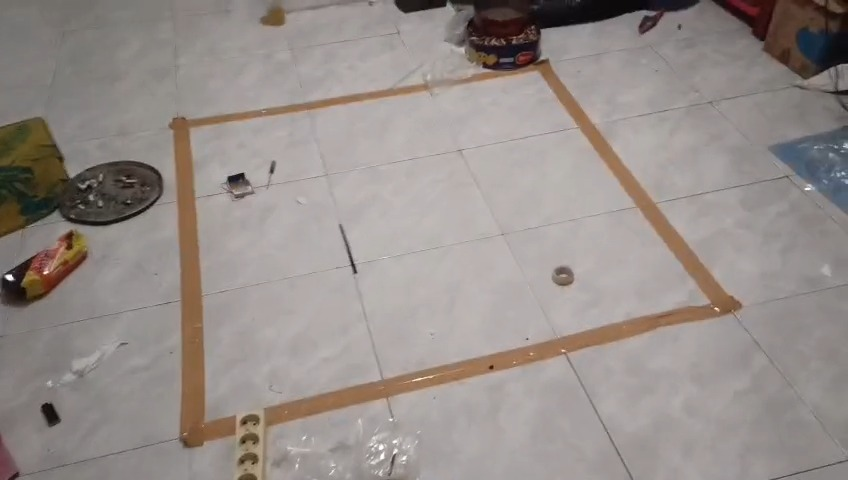floor marking: (265, 62, 741, 424), (172, 85, 427, 446)
